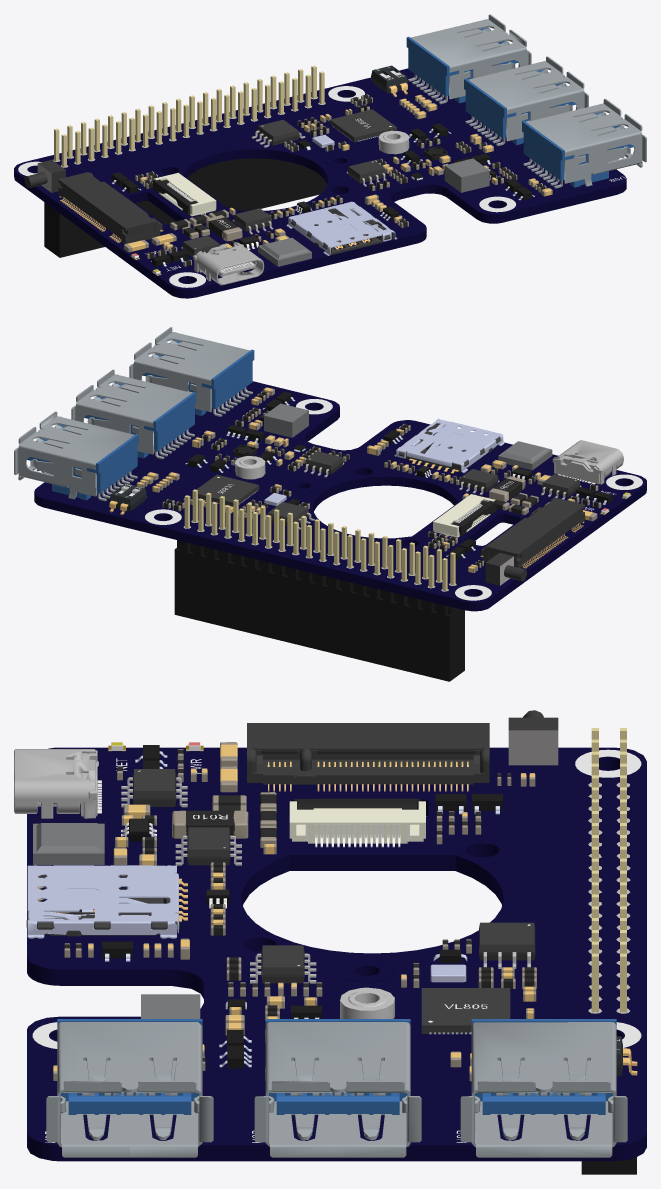
File: raspberry_pi_optimized.glb
3 views of the same model, one above another, from view 1: azimuth 30°, elevation 25°; view 2: azimuth 150°, elevation 25°; view 3: azimuth 270°, elevation 25° (orthographic). The views are drawn at different scales.
Visible parts, largest first — view 1: USB C; view 2: USB C; view 3: USB C.
Part boxes in pixels (x1,y1,x2,y2): USB C: [14, 14, 646, 298]; USB C: [14, 327, 646, 681]; USB C: [14, 710, 646, 1174].
Bounding box in the file's own units: 0.0906 × 0.0235 × 0.0572.
1 material, 1 textured.
